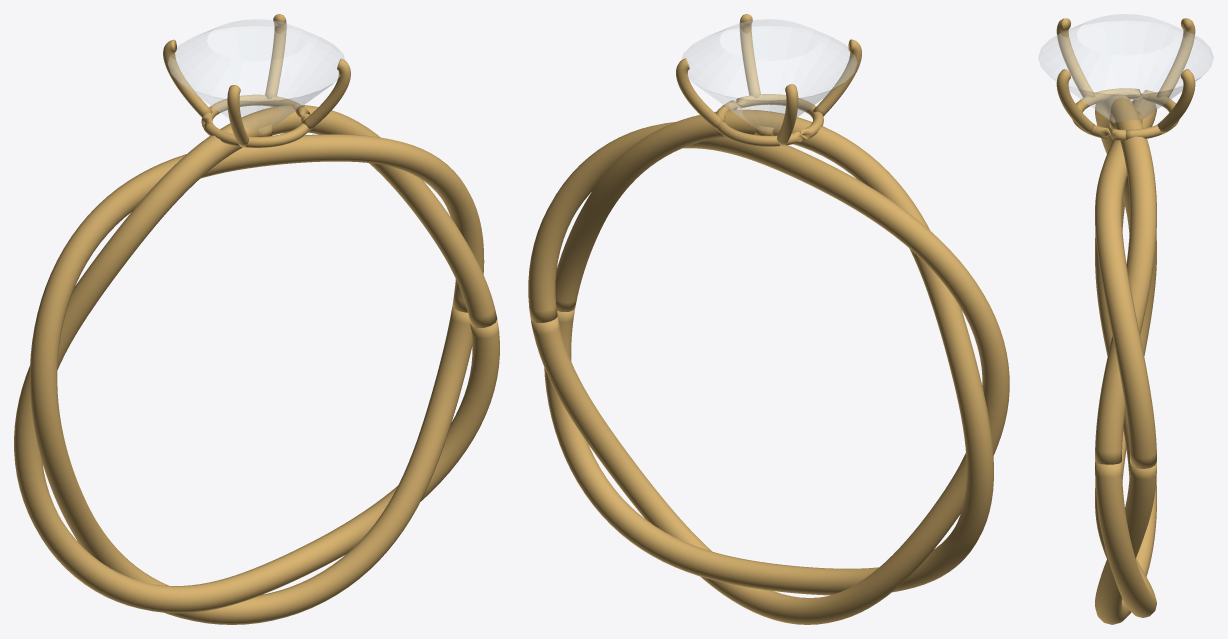
Rendered from bands-twisted.glb.
The picture shows the model from 3 angles, left to right: view 1: azimuth 30°, elevation 25°; view 2: azimuth 150°, elevation 25°; view 3: azimuth 270°, elevation 25°; orthographic projection.
Parts seen in each view (by area): view 1: Band strand.001, Band strand, Gem, Lower gallery, Prong.001, Prong, Prong.003, Prong.002; view 2: Band strand.001, Band strand, Gem, Lower gallery, Prong.002, Prong.003, Prong, Prong.001; view 3: Band strand.001, Band strand, Gem, Lower gallery, Prong.001, Prong.002, Prong, Prong.003.
Boxes of the visible parts, box(x1,y1,x2,y2) form: Band strand.001: box(29, 134, 484, 624); Band strand: box(14, 105, 499, 613); Gem: box(168, 19, 344, 131); Lower gallery: box(201, 94, 310, 147); Prong.001: box(163, 39, 212, 116); Prong: box(265, 14, 286, 98); Prong.003: box(301, 59, 350, 130); Prong.002: box(227, 85, 248, 147); Band strand.001: box(528, 122, 1009, 624); Band strand: box(544, 109, 993, 595); Gem: box(682, 19, 857, 130); Lower gallery: box(716, 94, 823, 146); Prong.002: box(812, 39, 861, 116); Prong.003: box(739, 14, 760, 98); Prong: box(676, 58, 725, 130); Prong.001: box(777, 84, 798, 145); Band strand.001: box(1095, 96, 1156, 624); Band strand: box(1095, 93, 1156, 617); Gem: box(1038, 14, 1213, 122); Lower gallery: box(1072, 88, 1179, 140); Prong.001: box(1156, 18, 1195, 97); Prong.002: box(1056, 18, 1095, 97); Prong: box(1157, 69, 1195, 134); Prong.003: box(1056, 69, 1094, 134).
Size of the model in its own units: 19.57 by 23.34 by 6.5.
